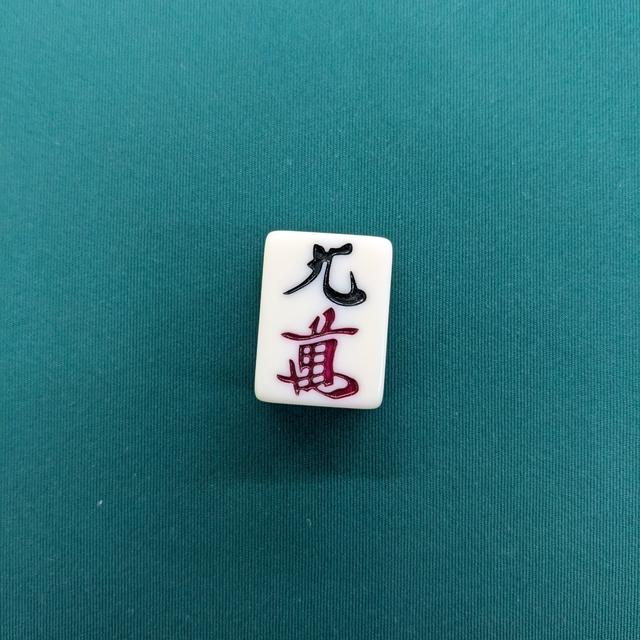9m: (254, 225, 391, 412)
